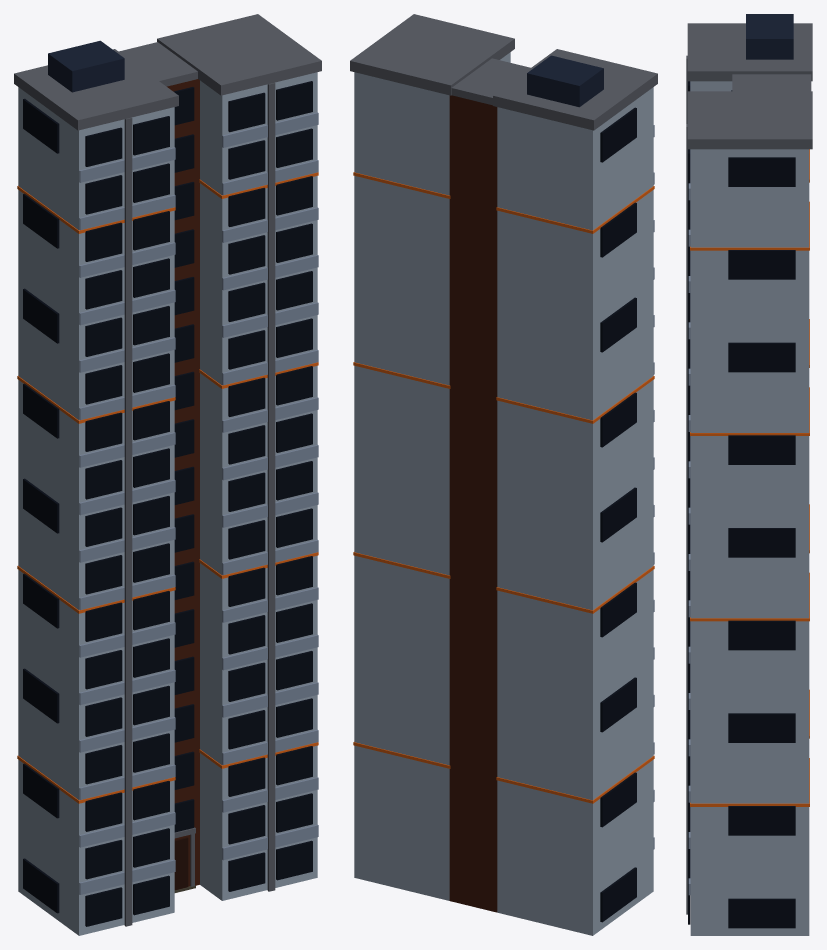
Rendered from highrise3.obj.
The picture shows the model from 3 angles, left to right: view 1: azimuth 30°, elevation 25°; view 2: azimuth 150°, elevation 25°; view 3: azimuth 270°, elevation 25°; orthographic projection. The views are drawn at different scales.
Parts seen in each view (by area): view 1: shafts, shaft-glazing, spandrels, caps, shaft-fins, notch-glazing, end-glazing, notch, window-lights, roof-plant, entrance; view 2: shafts, notch, caps, end-glazing, window-lights, roof-plant; view 3: shafts, end-glazing, caps, roof-plant, window-lights, shaft-glazing, shaft-fins, spandrels.
Boxes of the visible parts, left/top/right/bottom form: shafts: left=18, top=72, right=317, bottom=935; shaft-glazing: left=85, top=81, right=312, bottom=926; spandrels: left=79, top=112, right=318, bottom=894; caps: left=14, top=14, right=321, bottom=130; shaft-fins: left=124, top=82, right=275, bottom=926; notch-glazing: left=173, top=87, right=194, bottom=832; end-glazing: left=23, top=98, right=59, bottom=913; notch: left=167, top=79, right=199, bottom=886; window-lights: left=17, top=172, right=318, bottom=803; roof-plant: left=48, top=40, right=124, bottom=92; entrance: left=174, top=837, right=188, bottom=890; shafts: left=354, top=52, right=653, bottom=935; notch: left=449, top=95, right=497, bottom=912; caps: left=350, top=14, right=657, bottom=130; end-glazing: left=600, top=107, right=636, bottom=922; window-lights: left=353, top=172, right=654, bottom=803; roof-plant: left=527, top=55, right=603, bottom=107; shafts: left=690, top=81, right=809, bottom=935; end-glazing: left=728, top=157, right=795, bottom=928; caps: left=687, top=23, right=812, bottom=149; roof-plant: left=746, top=14, right=793, bottom=59; window-lights: left=690, top=149, right=809, bottom=806; shaft-glazing: left=688, top=81, right=690, bottom=924; shaft-fins: left=686, top=55, right=687, bottom=914; spandrels: left=688, top=81, right=690, bottom=895.
Bounding box in the file's own units: 6.96 × 22.86 × 3.19.
